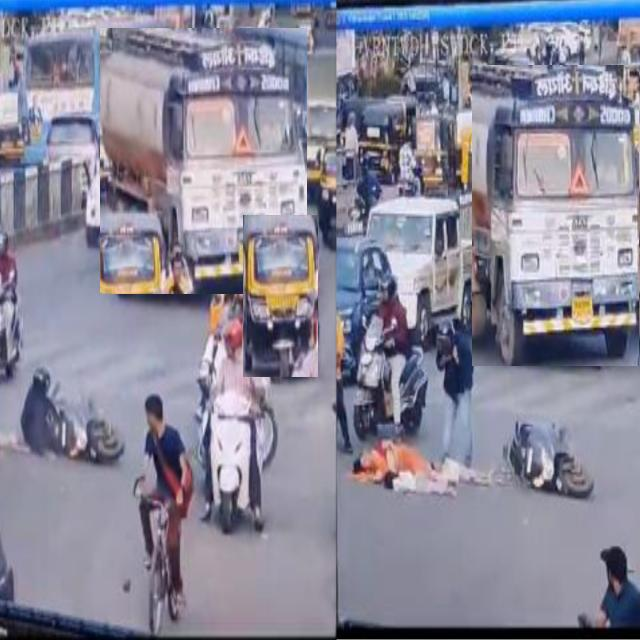autorickshaw: (244, 216, 318, 377)
truck: (101, 29, 307, 294), (472, 66, 640, 366)
